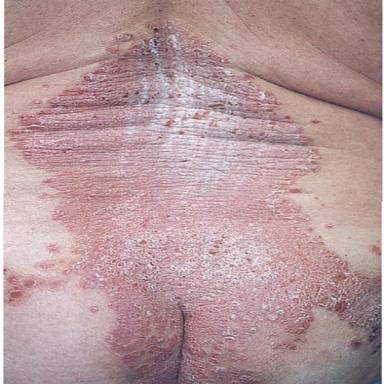Psoriasis: (5, 20, 378, 384), (105, 33, 133, 53)
